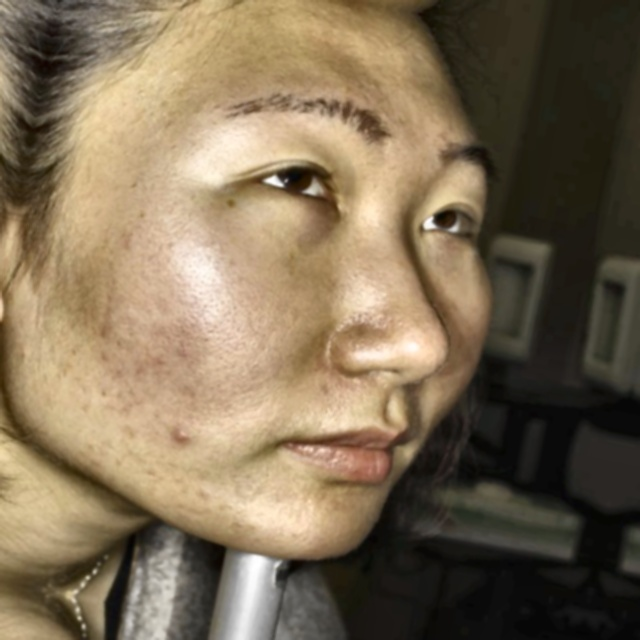comedone: (153, 415, 198, 458)
